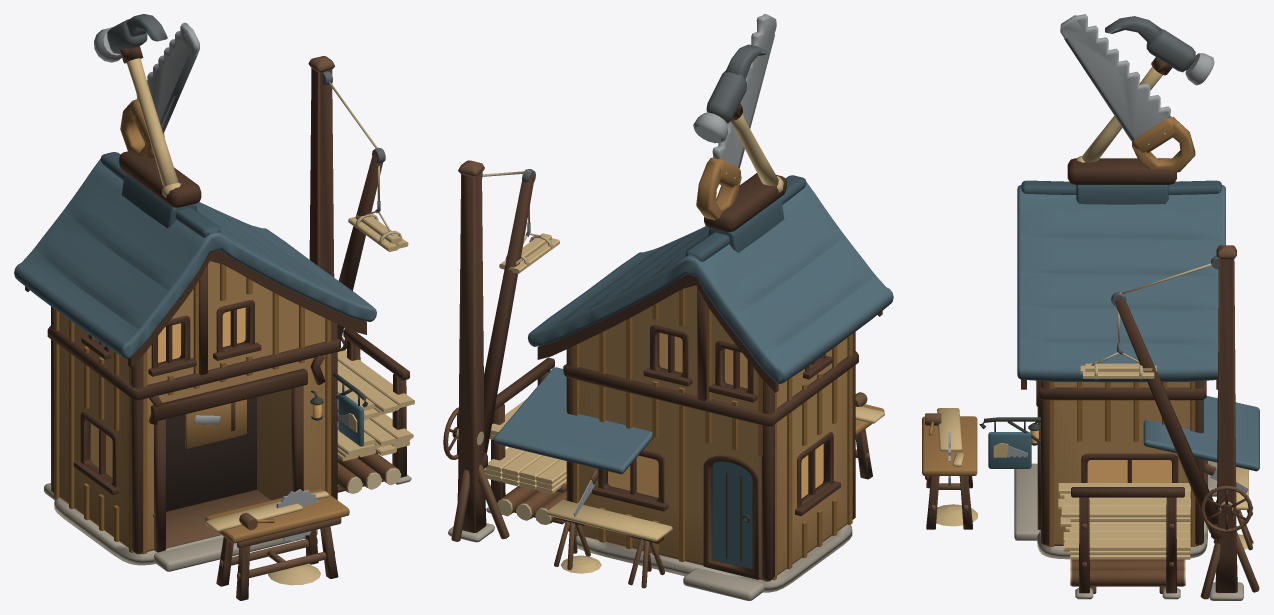
The model's file is BLD_Workshop_A_T3.fbx.
3 renders of one model, left to right at view 1: azimuth 30°, elevation 25°; view 2: azimuth 150°, elevation 25°; view 3: azimuth 270°, elevation 25°, orthographic. The views are drawn at different scales.
Visible parts, largest first — view 1: BLD_Workshop_A_T3_Body_LOD0, BLD_Workshop_A_T3_Load_LOD0, BLD_Workshop_A_T3_Sign_LOD0; view 2: BLD_Workshop_A_T3_Body_LOD0, BLD_Workshop_A_T3_Load_LOD0; view 3: BLD_Workshop_A_T3_Body_LOD0, BLD_Workshop_A_T3_Sign_LOD0, BLD_Workshop_A_T3_Load_LOD0.
Part boxes in pixels (x1,y1,x2,y2): BLD_Workshop_A_T3_Body_LOD0: [14, 14, 414, 600]; BLD_Workshop_A_T3_Load_LOD0: [348, 165, 408, 251]; BLD_Workshop_A_T3_Sign_LOD0: [338, 384, 363, 446]; BLD_Workshop_A_T3_Body_LOD0: [443, 14, 893, 600]; BLD_Workshop_A_T3_Load_LOD0: [499, 206, 559, 273]; BLD_Workshop_A_T3_Body_LOD0: [922, 14, 1259, 600]; BLD_Workshop_A_T3_Sign_LOD0: [988, 421, 1031, 468]; BLD_Workshop_A_T3_Load_LOD0: [1080, 310, 1156, 379].
Size of what is drawn, in the model's own units: 4.84 by 7.15 by 4.54.
